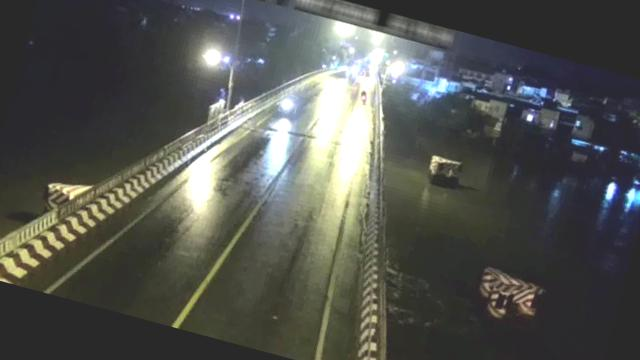Bike: (278, 94, 299, 116), (356, 86, 372, 107)
